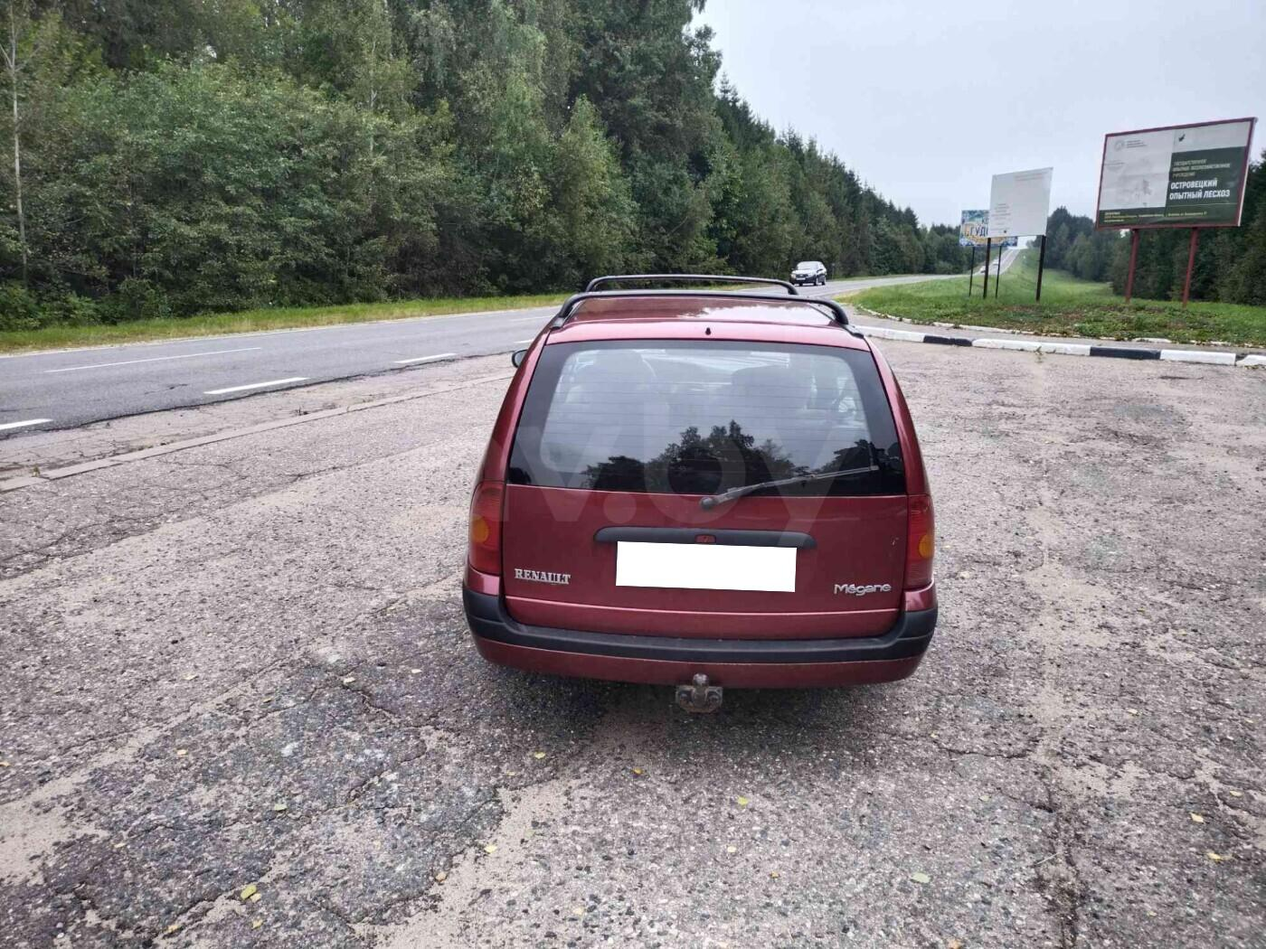Megane_1999-2003: (457, 283, 934, 723)
